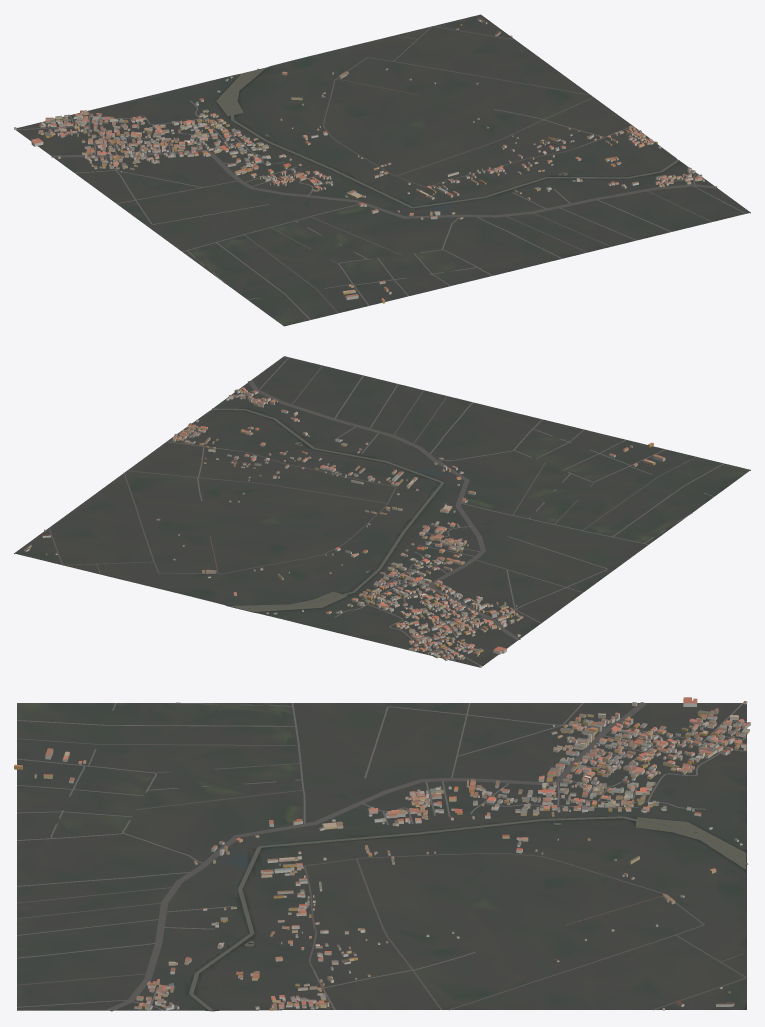
3 views of the same model, one above another, from view 1: azimuth 30°, elevation 25°; view 2: azimuth 150°, elevation 25°; view 3: azimuth 270°, elevation 25° (orthographic). The views are drawn at different scales.
Visible parts, largest first — view 1: ground, buildings, roads, water; view 2: ground, buildings, roads, water; view 3: ground, buildings, roads, water.
Boxes of the visible parts, x1,y1,x2,y2 form: ground: (14,14,750,326); buildings: (14,17,704,303); roads: (15,26,745,319); water: (216,67,679,208); ground: (14,356,750,667); buildings: (24,387,665,667); roads: (48,357,724,665); water: (212,408,444,612); ground: (17,703,746,1011); buildings: (14,697,750,1010); roads: (17,702,746,1011); water: (189,816,748,1011).
Size of the model in its own units: 1412 by 19.98 by 1416.
